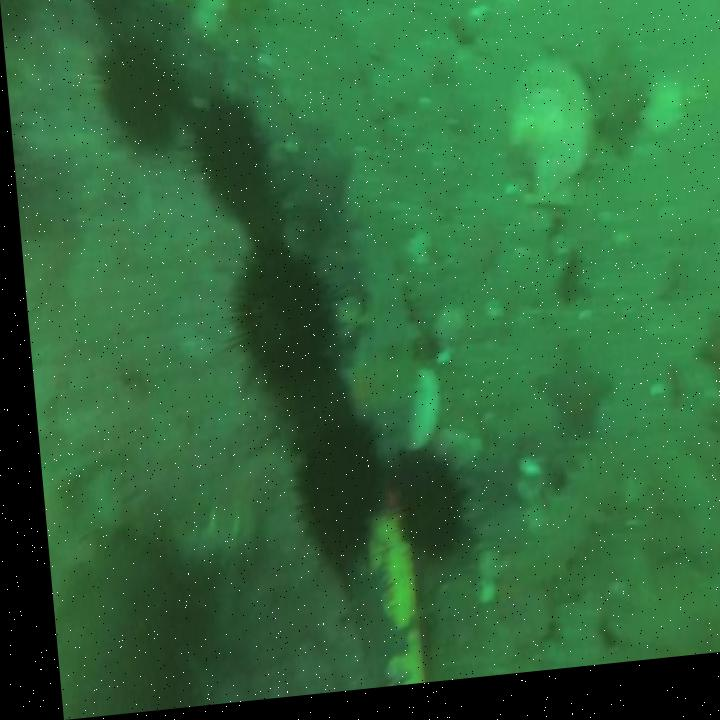echinus: (290, 430, 377, 578), (227, 254, 317, 385), (187, 108, 262, 225), (99, 44, 173, 157), (390, 466, 451, 565)
holothurian: (332, 232, 413, 438), (504, 454, 624, 589), (159, 508, 247, 589)
scallop: (503, 65, 593, 223)
starfish: (520, 353, 609, 454), (571, 59, 645, 168), (278, 147, 352, 250), (449, 441, 518, 531), (685, 320, 720, 412)
